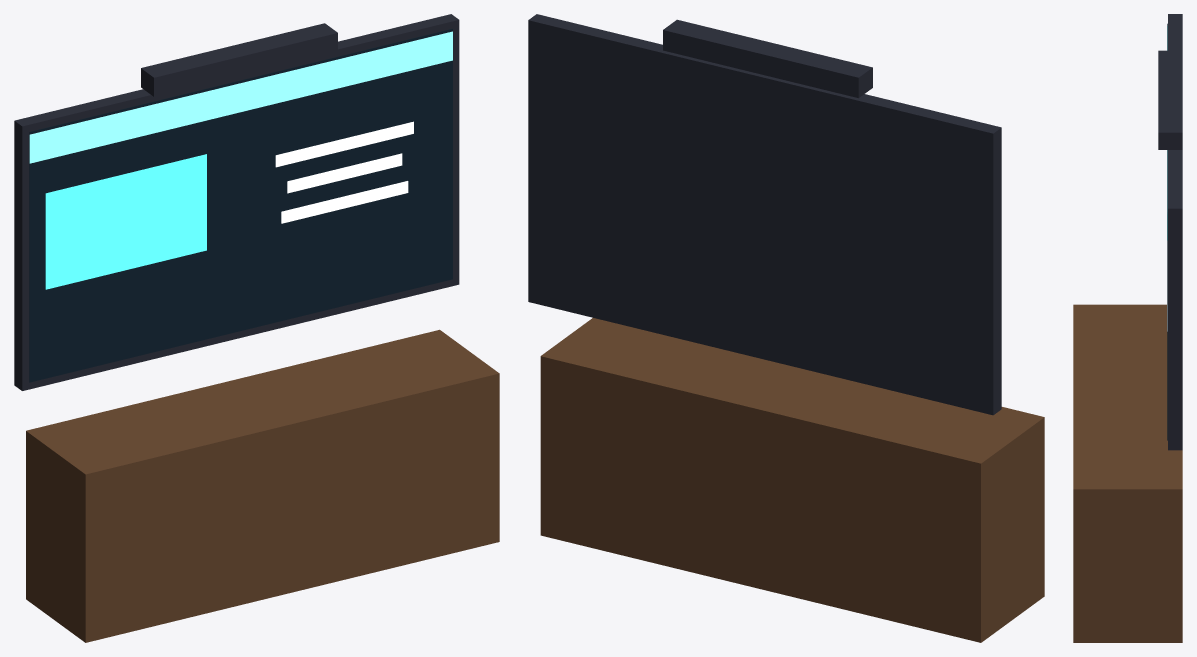
3 views of the same model, side by side, from view 1: azimuth 30°, elevation 25°; view 2: azimuth 150°, elevation 25°; view 3: azimuth 270°, elevation 25° (orthographic). The views are drawn at different scales.
Parts seen in each view (by area): view 1: walnut, monitor_screen, plastic_dark, trace_spo2, pump_screen, display_white; view 2: plastic_dark, walnut; view 3: walnut, plastic_dark, monitor_screen.
Boxes of the visible parts, box(x1,y1,x2,y2) form: walnut: box(26, 329, 499, 642); monitor_screen: box(29, 28, 452, 382); plastic_dark: box(14, 14, 459, 390); trace_spo2: box(45, 154, 206, 289); pump_screen: box(29, 31, 452, 163); display_white: box(275, 121, 413, 223); plastic_dark: box(528, 14, 1001, 415); walnut: box(540, 318, 1044, 642); walnut: box(1073, 304, 1182, 642); plastic_dark: box(1158, 14, 1182, 450); monitor_screen: box(1167, 23, 1167, 440).
Bounding box in the file's own units: 1.9 × 2.09 × 0.45.
